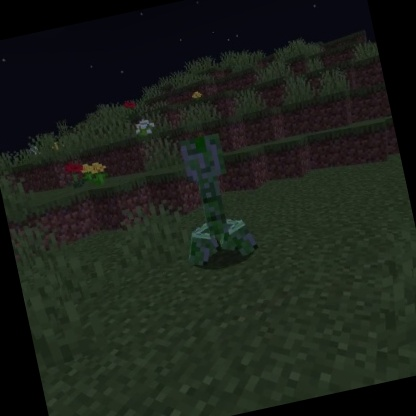creeper: (160, 125, 264, 276)
